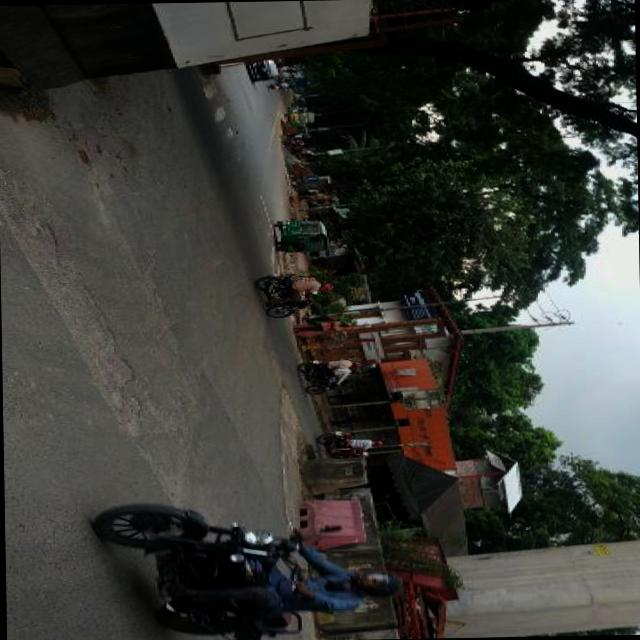motorcycle: (89, 496, 306, 640), (253, 272, 334, 318), (296, 356, 362, 396), (314, 428, 385, 460), (272, 216, 330, 254)
